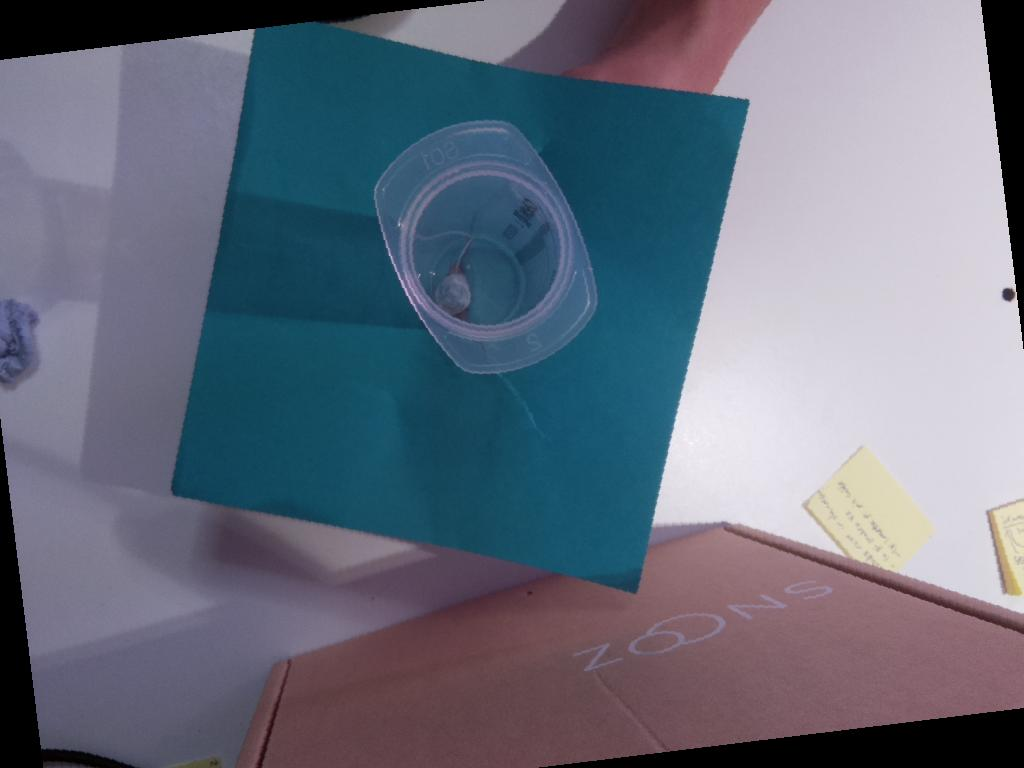clean: (368, 117, 601, 377)
